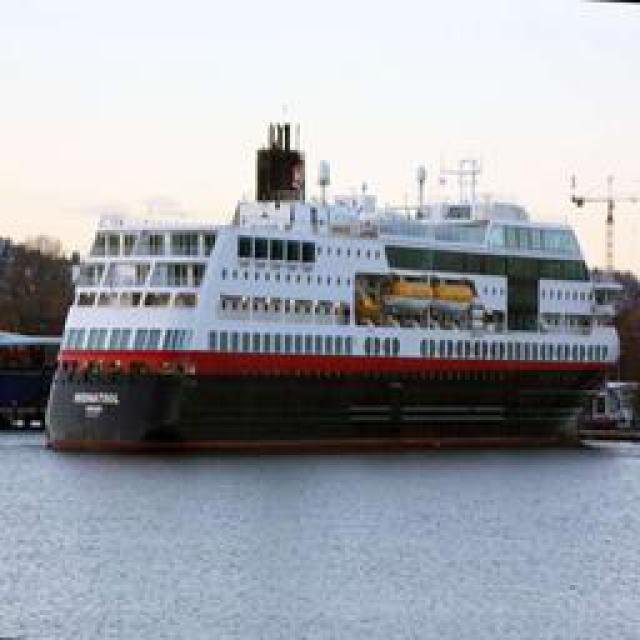Ship: (46, 137, 624, 445)
